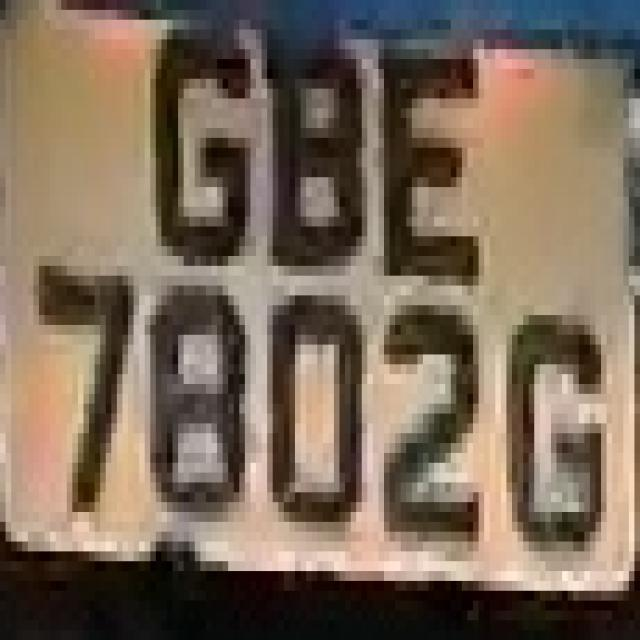0: (256, 256, 362, 522)
2: (373, 286, 495, 571)
7: (28, 226, 133, 542)
8: (128, 246, 250, 542)
B: (267, 10, 367, 285)
E: (373, 30, 490, 315)
G: (495, 286, 612, 590), (128, 29, 256, 286)
